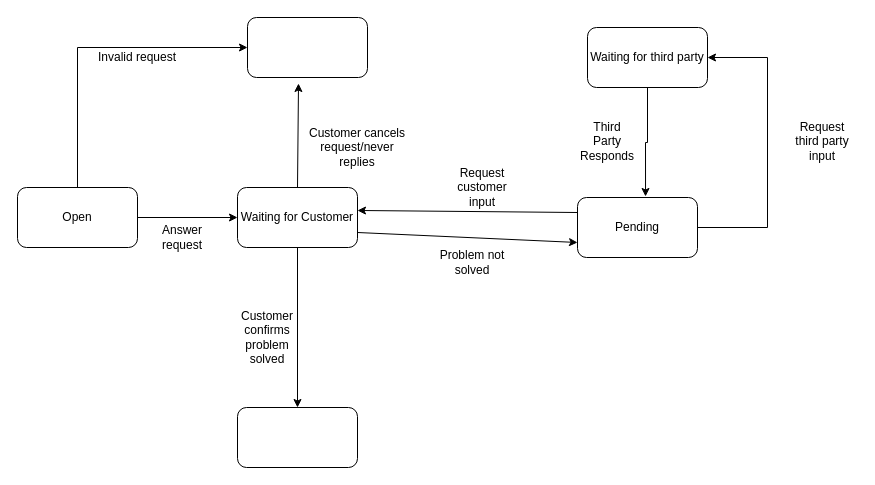
This 875x485 diagram has some shape labels left out. The shapes that lost their labels are listed below. From the top down, each one's centre as x and y in pixels, then its label:
At pixel 307 47: "Closed".
At pixel 297 437: "Resolved".
